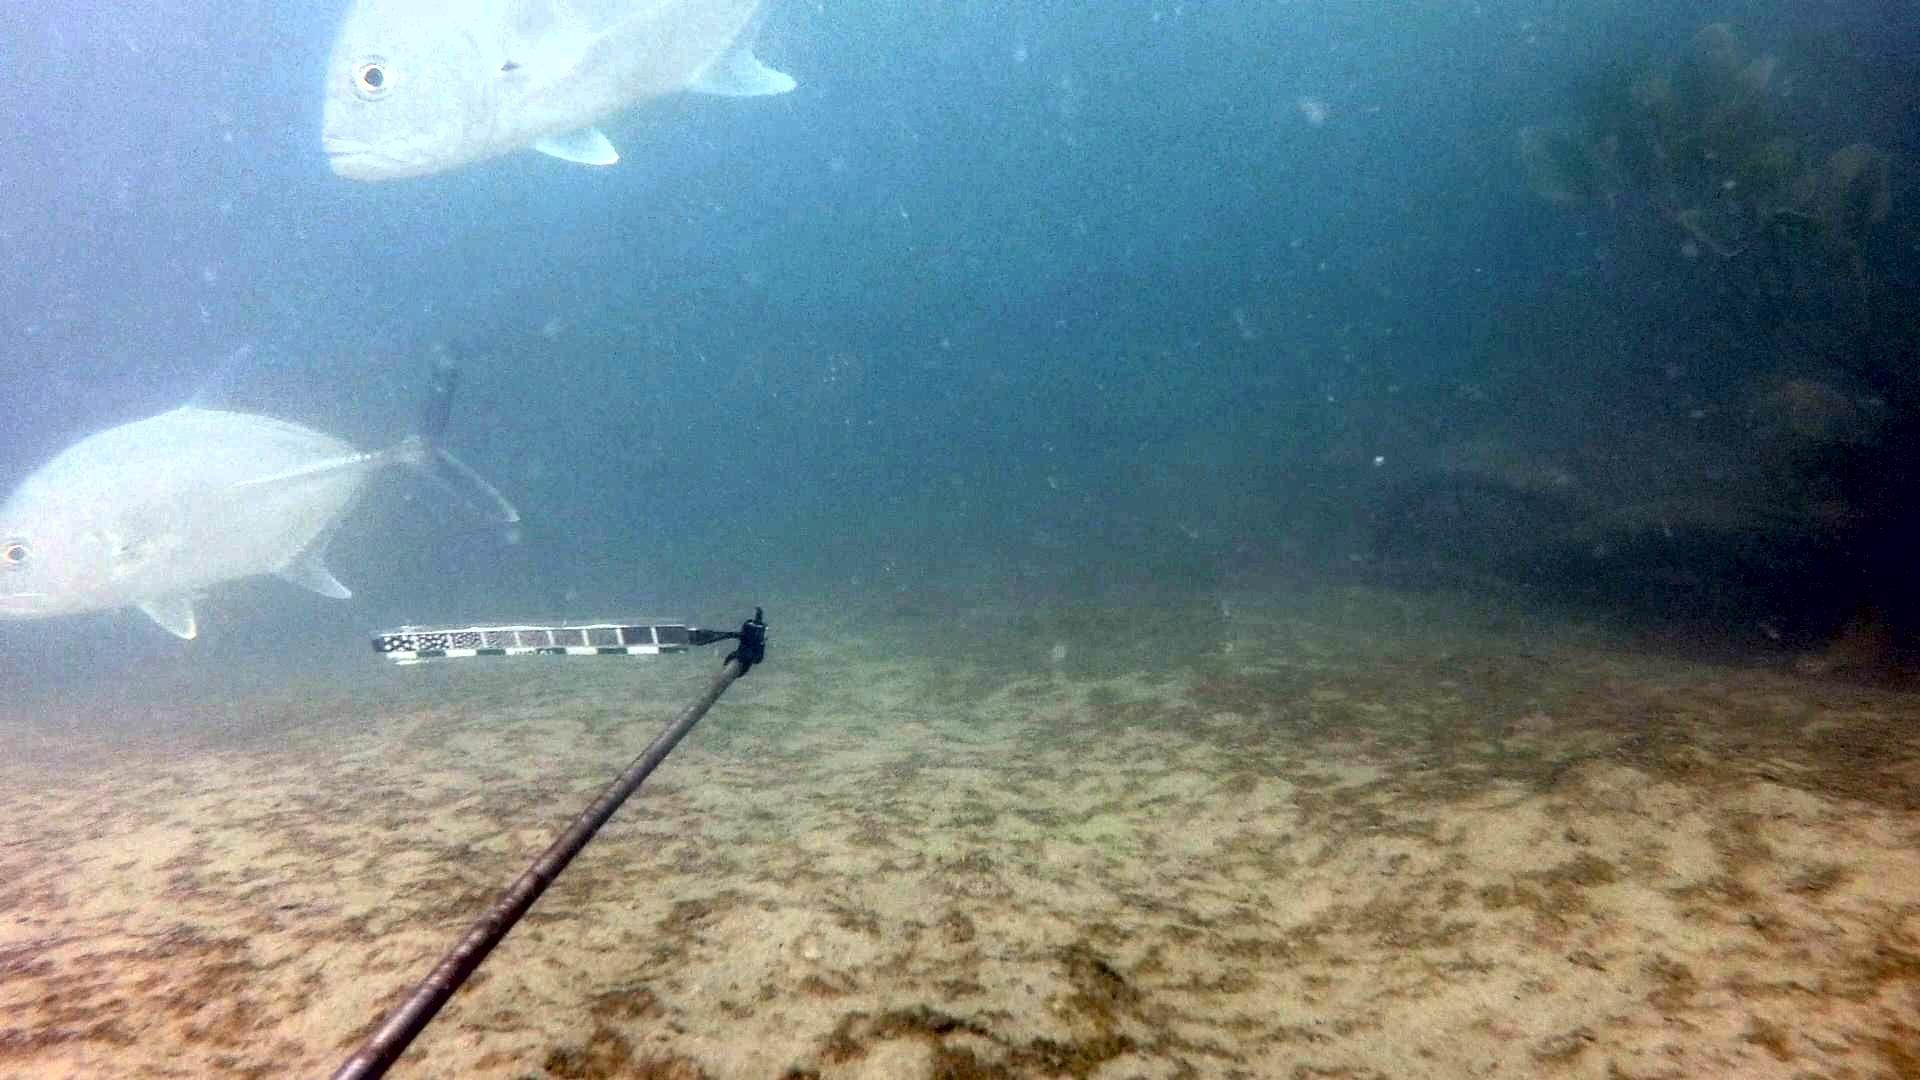caranx: (0, 326, 525, 646), (310, 0, 812, 193)
